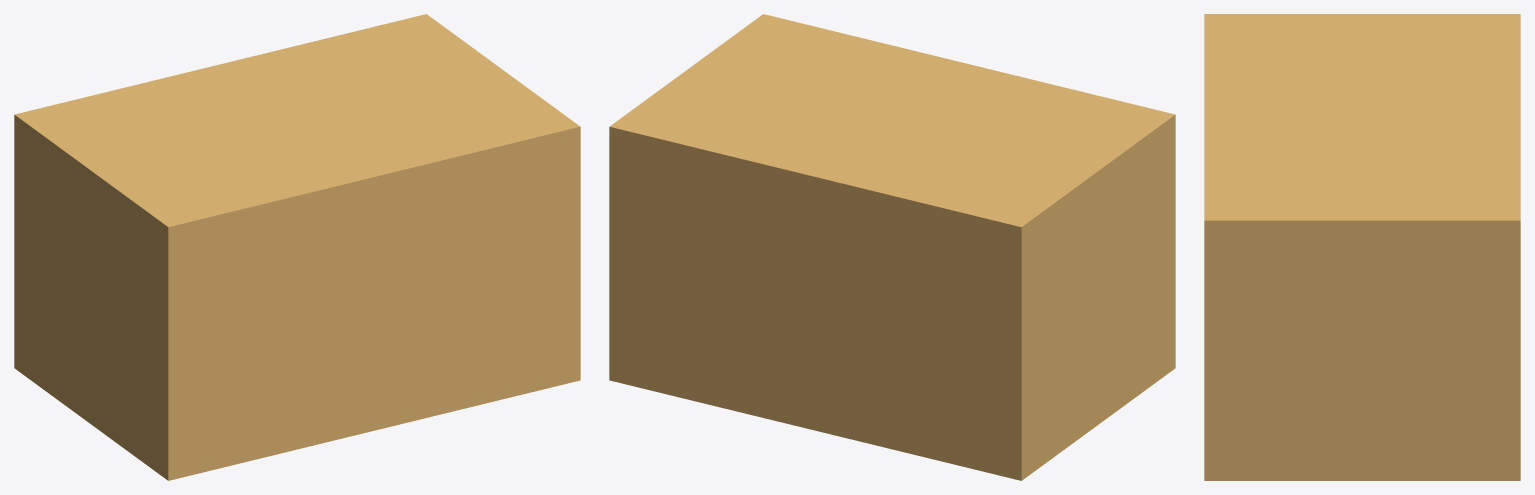
File: building-c.glb
3 renders of one model, left to right at view 1: azimuth 30°, elevation 25°; view 2: azimuth 150°, elevation 25°; view 3: azimuth 270°, elevation 25°, orthographic. The views are drawn at different scales.
Visible parts, largest first — view 1: demo-building-c; view 2: demo-building-c; view 3: demo-building-c.
Boxes of the visible parts, left/top/right/bottom form: demo-building-c: left=14, top=14, right=580, bottom=480; demo-building-c: left=609, top=14, right=1175, bottom=480; demo-building-c: left=1204, top=14, right=1520, bottom=480.
Size of the model in its own units: 34 by 20 by 22.
